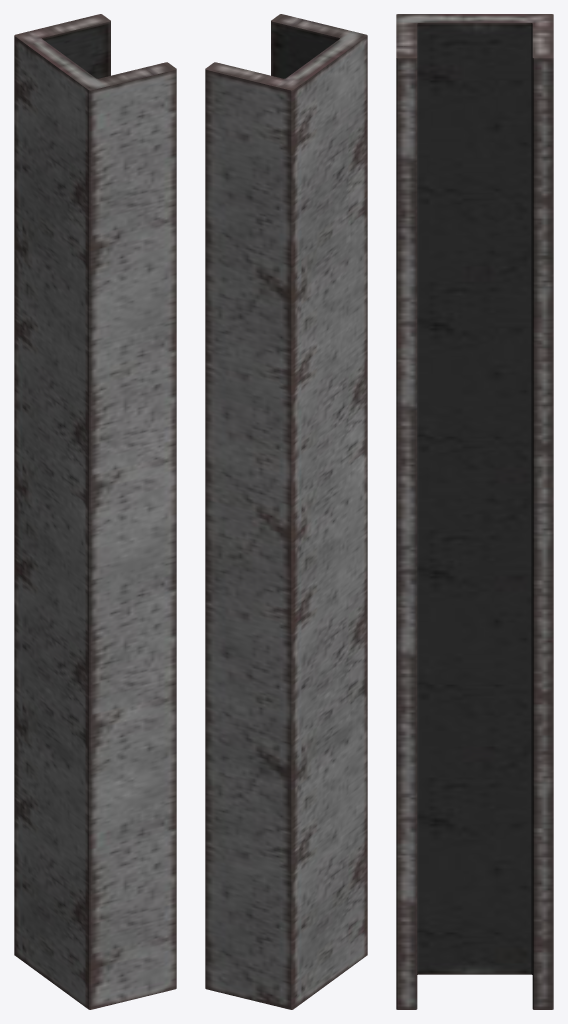
Rendered from Profile2_g.gltf.
The picture shows the model from 3 angles, left to right: view 1: azimuth 30°, elevation 25°; view 2: azimuth 150°, elevation 25°; view 3: azimuth 270°, elevation 25°; orthographic projection. The views are drawn at different scales.
Parts seen in each view (by area): view 1: Channel002; view 2: Channel002; view 3: Channel002.
Boxes of the visible parts, left/top/right/bottom form: Channel002: left=14, top=14, right=176, bottom=1009; Channel002: left=205, top=14, right=367, bottom=1009; Channel002: left=396, top=14, right=553, bottom=1009.
Size of the model in its own units: 0.1 by 1 by 0.15.
Materials: 1 (1 with a texture image).
